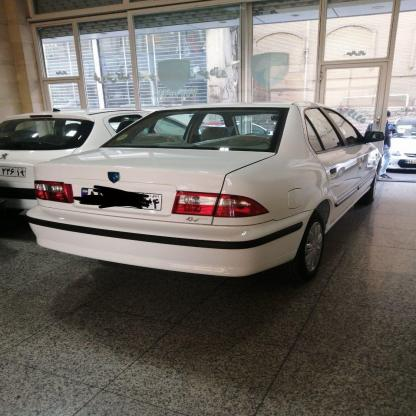Car: (35, 100, 396, 290), (0, 112, 154, 202)
